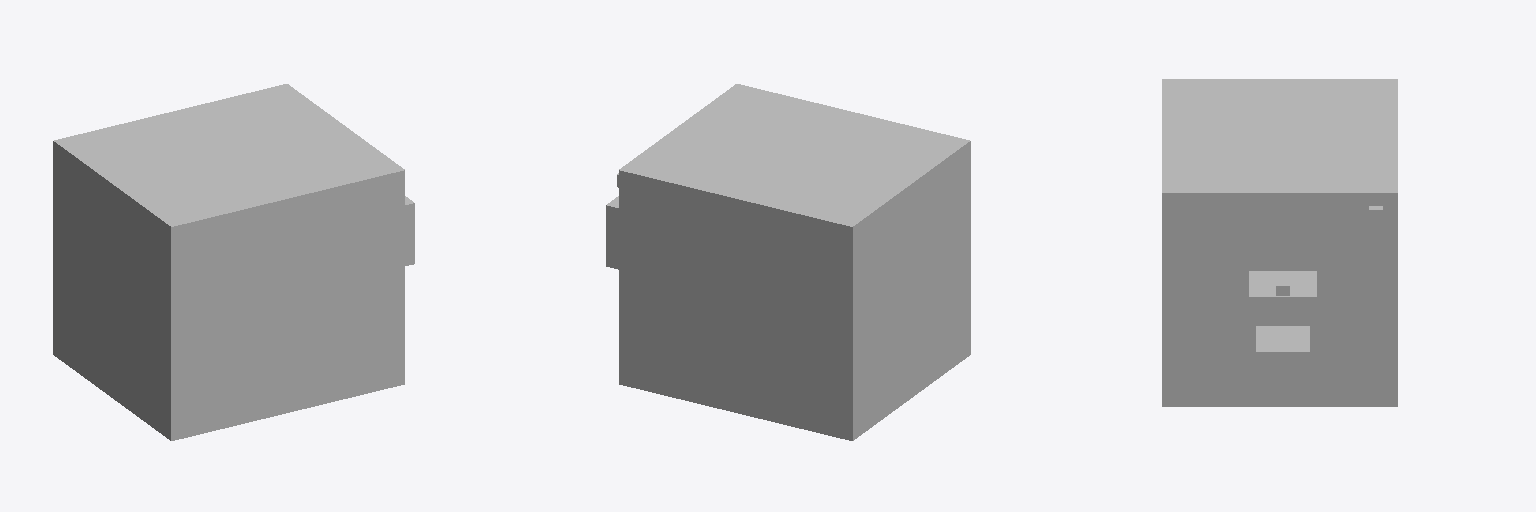
File: turret_body.obj
3 views of the same model, side by side, from view 1: azimuth 30°, elevation 25°; view 2: azimuth 150°, elevation 25°; view 3: azimuth 270°, elevation 25° (orthographic).
Visible parts, largest first — view 1: Cube.002_Cube.003; view 2: Cube.002_Cube.003; view 3: Cube.002_Cube.003.
Part boxes in pixels (x1,y1,x2,y2): Cube.002_Cube.003: (53, 84, 414, 440); Cube.002_Cube.003: (606, 84, 970, 440); Cube.002_Cube.003: (1162, 79, 1397, 406).
Size of the model in its own units: 0.9823 by 0.7 by 0.7.